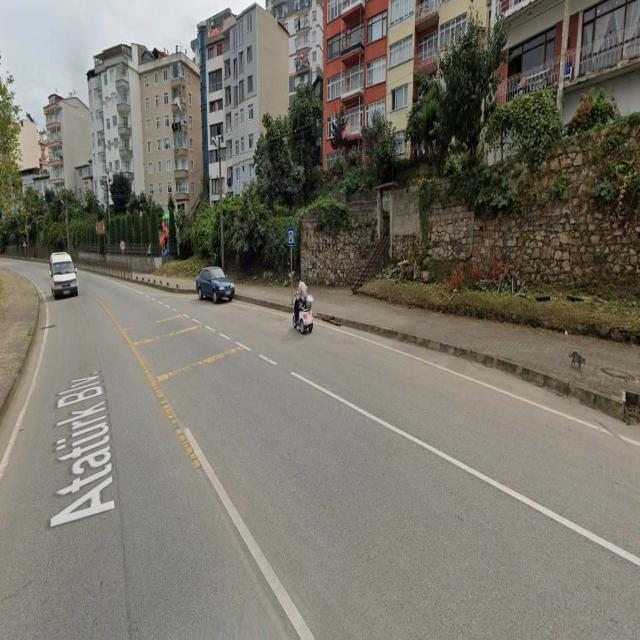durak: (288, 227, 294, 246)
